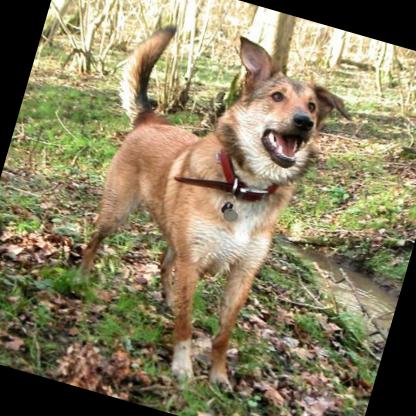kelpie: (40, 2, 364, 400)
